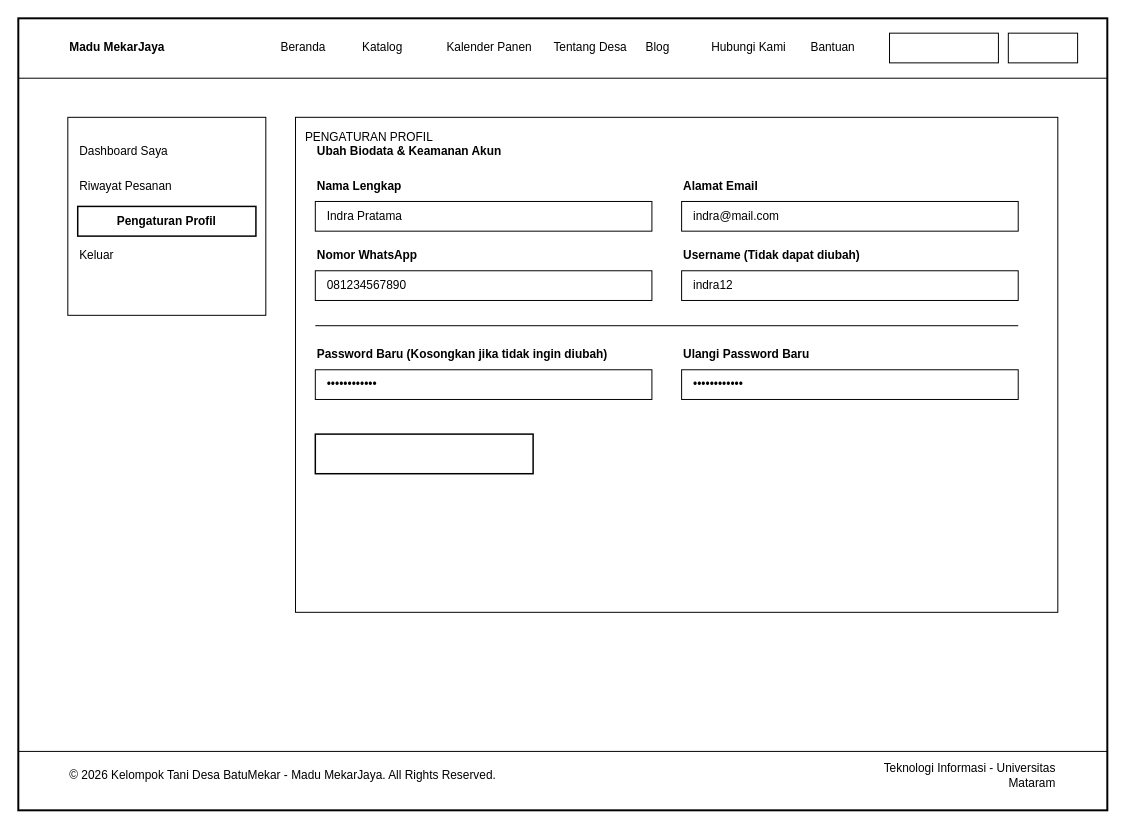
Some shapes in this 1125 by 828 pixel diagram are drawn without their labels. Each missing label, with the box of its shape:
[Icon] Akun: (1007, 32, 1078, 63)
[Icon] Keranjang (2): (889, 32, 998, 63)
MENU AKUN: (67, 116, 266, 315)
Simpan Perubahan Data: (314, 433, 533, 474)
